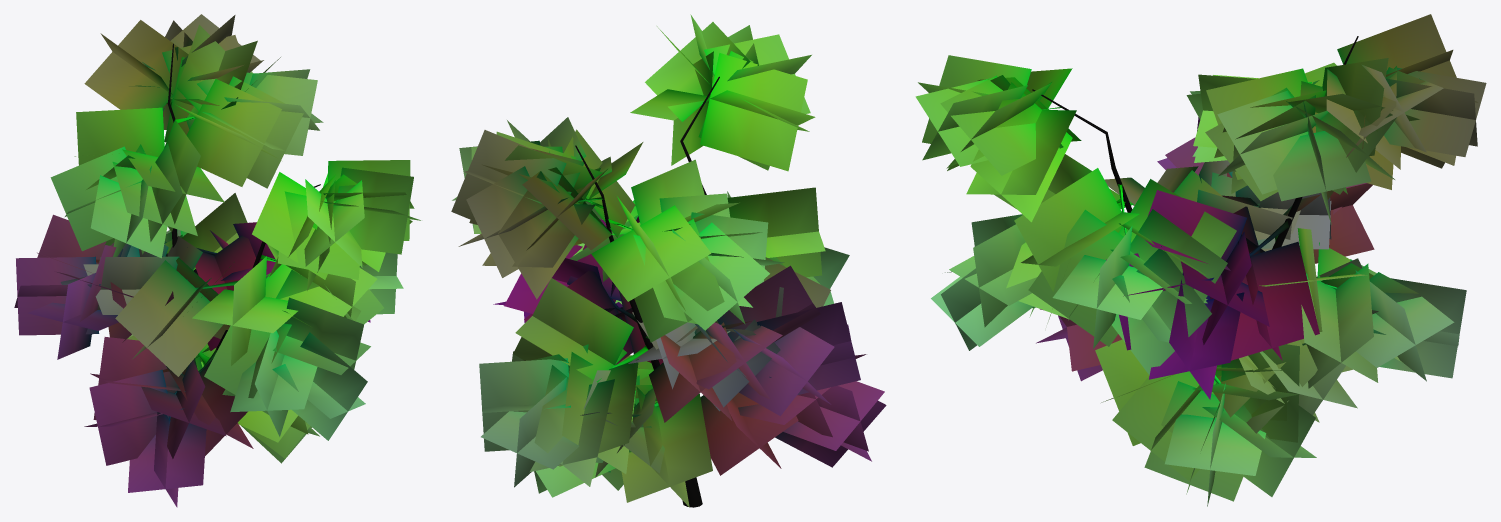
File: URP_P14_Tree_8_LOD_2.fbx
3 views of the same model, side by side, from view 1: azimuth 30°, elevation 25°; view 2: azimuth 150°, elevation 25°; view 3: azimuth 270°, elevation 25° (orthographic). The views are drawn at different scales.
Visible parts, largest first — view 1: Tree_8_LOD_2; view 2: Tree_8_LOD_2; view 3: Tree_8_LOD_2.
Boxes of the visible parts, <box> form: Tree_8_LOD_2: <box>14,14,420,507</box>; Tree_8_LOD_2: <box>451,14,886,507</box>; Tree_8_LOD_2: <box>915,14,1486,506</box>.
Bounding box in the file's own units: 421 × 464 × 540.
